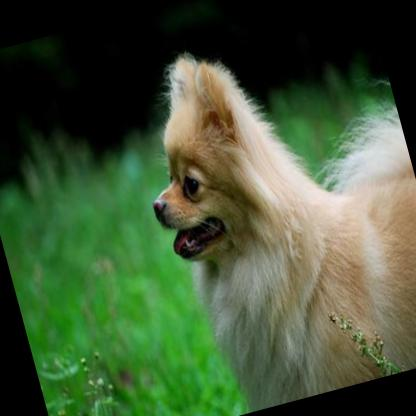Pomeranian: (116, 4, 416, 416)
